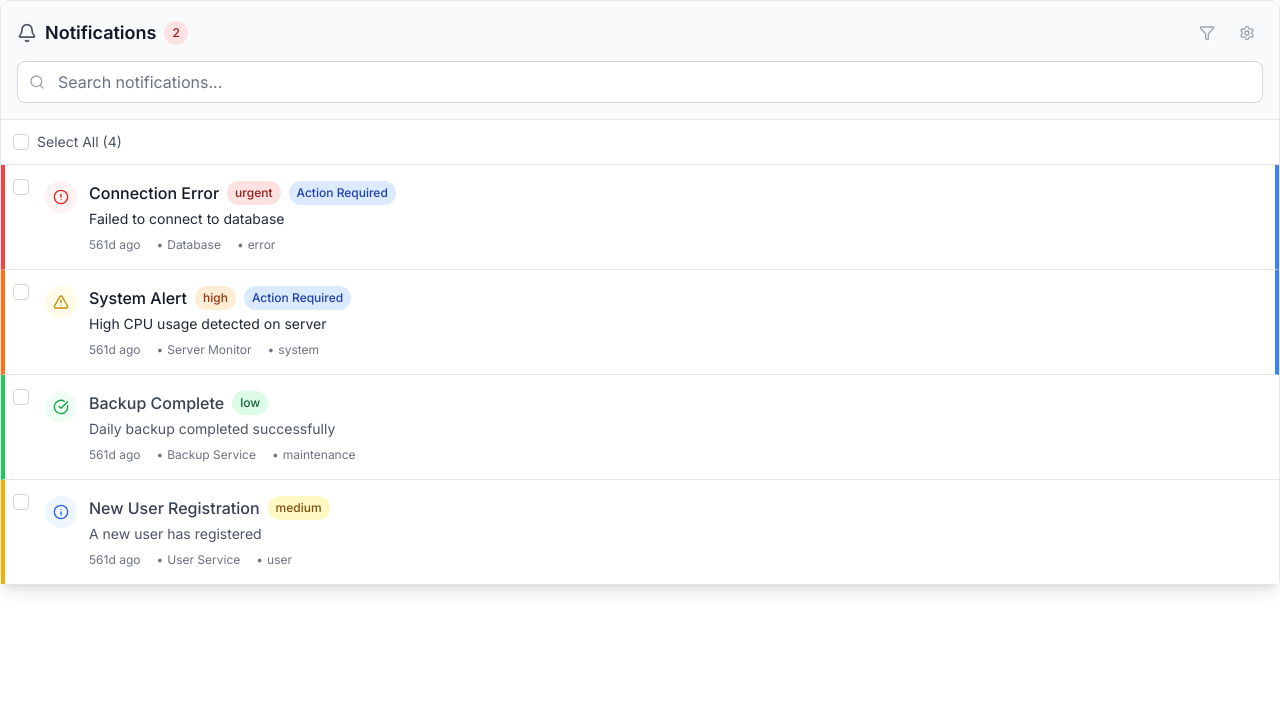
Test: NotificationPanel Component › Search Functionality › filters notifications by search query
The image size is (1280, 720).
Type "backup" into the field with placeholder "Search notifications..." at (640, 82), box [17,61,1263,103]
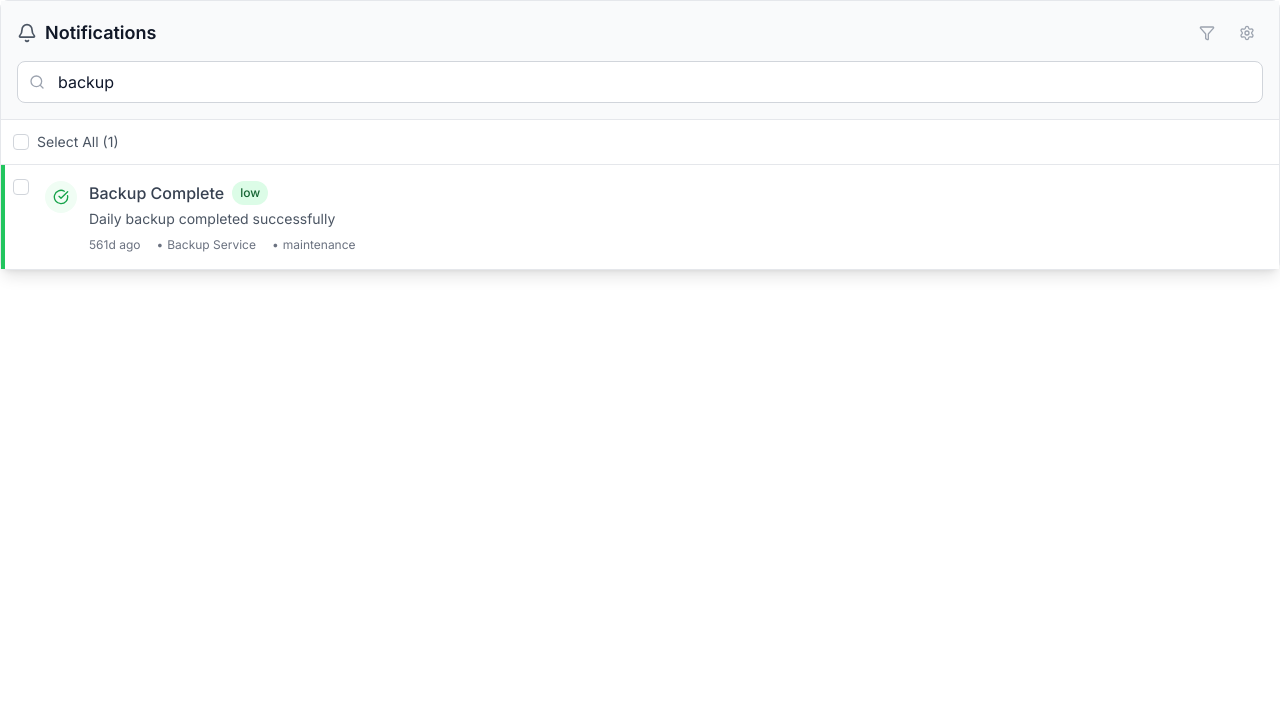
Expected: the heading "Backup Complete" is shown, [89,181,224,205]
Now the heading "System Alert" is gone
